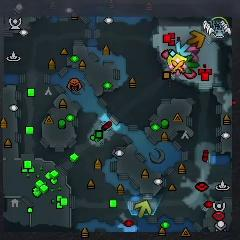Other: (169, 58, 187, 76)
p4: (167, 53, 187, 66)
x1: (185, 46, 199, 61)
x2: (134, 200, 152, 219)
x3: (176, 42, 193, 56)
x4: (183, 55, 200, 74)
x5: (187, 30, 205, 50)
